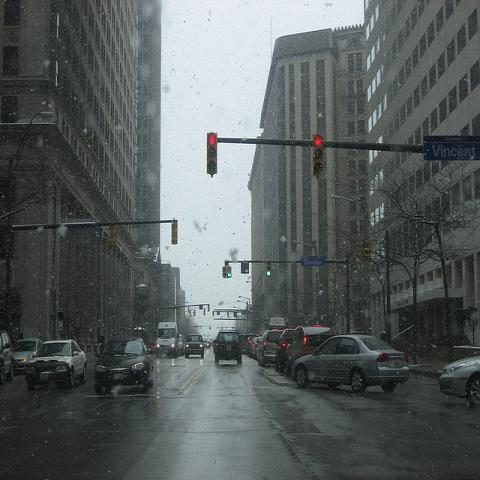car: (290, 335, 410, 393), (95, 338, 154, 394), (26, 340, 90, 391), (284, 326, 338, 377), (438, 354, 479, 407), (214, 328, 243, 366), (12, 338, 44, 372), (255, 329, 283, 367), (0, 331, 14, 385), (276, 329, 296, 365), (184, 334, 204, 358)
truck: (214, 329, 242, 366), (158, 320, 181, 358), (185, 334, 205, 358)
